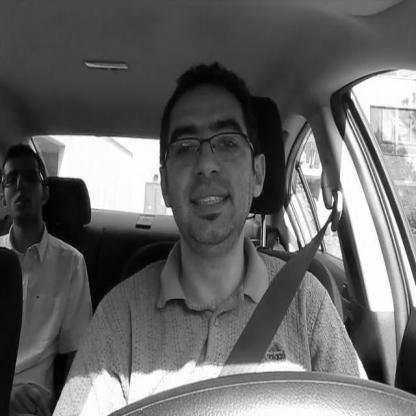seatbelt: (150, 60, 352, 374)
